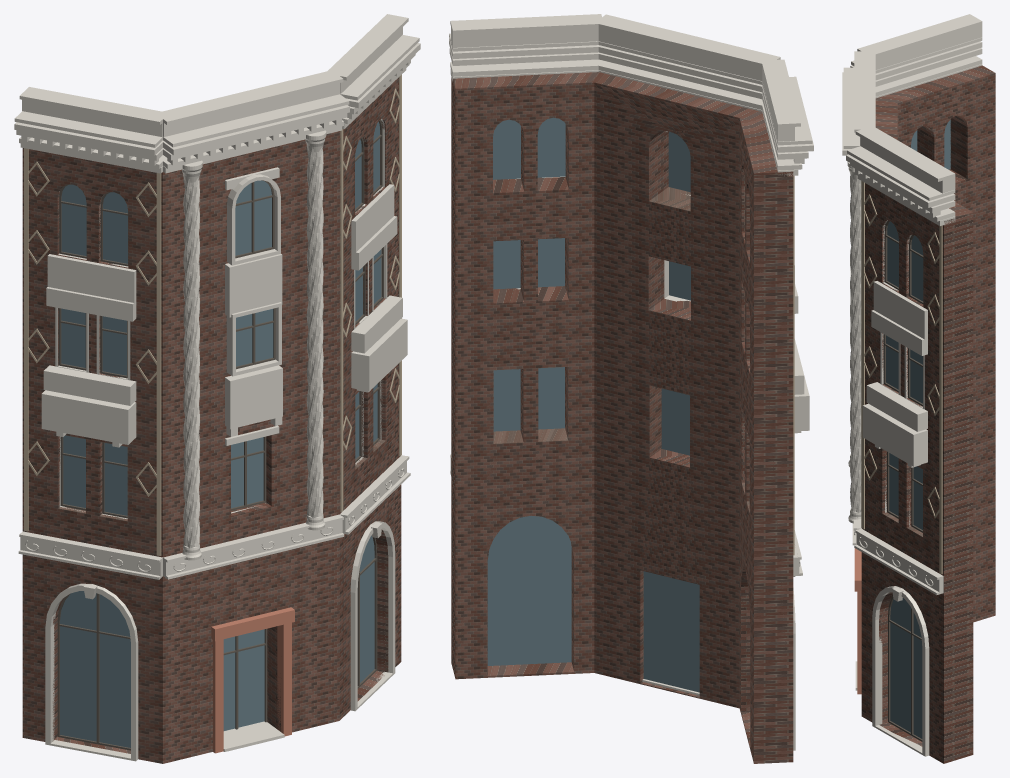
Rendered from huangpu-china-hotel-spiral-column-corner-lod.glb.
3 views of the same model, side by side, from view 1: azimuth 30°, elevation 25°; view 2: azimuth 150°, elevation 25°; view 3: azimuth 270°, elevation 25° (orthographic). The views are drawn at different scales.
Parts seen in each view (by area): view 1: 中国大饭店西南切角螺旋柱窗墙; view 2: 中国大饭店西南切角螺旋柱窗墙; view 3: 中国大饭店西南切角螺旋柱窗墙.
Part boxes in pixels (box(x1,y1,x2,y2)): 中国大饭店西南切角螺旋柱窗墙: box(14, 14, 420, 763); 中国大饭店西南切角螺旋柱窗墙: box(449, 14, 813, 763); 中国大饭店西南切角螺旋柱窗墙: box(842, 14, 995, 763).
Size of the model in its own units: 10.86 by 17.27 by 4.08.
Materials: 6 (1 with a texture image).
